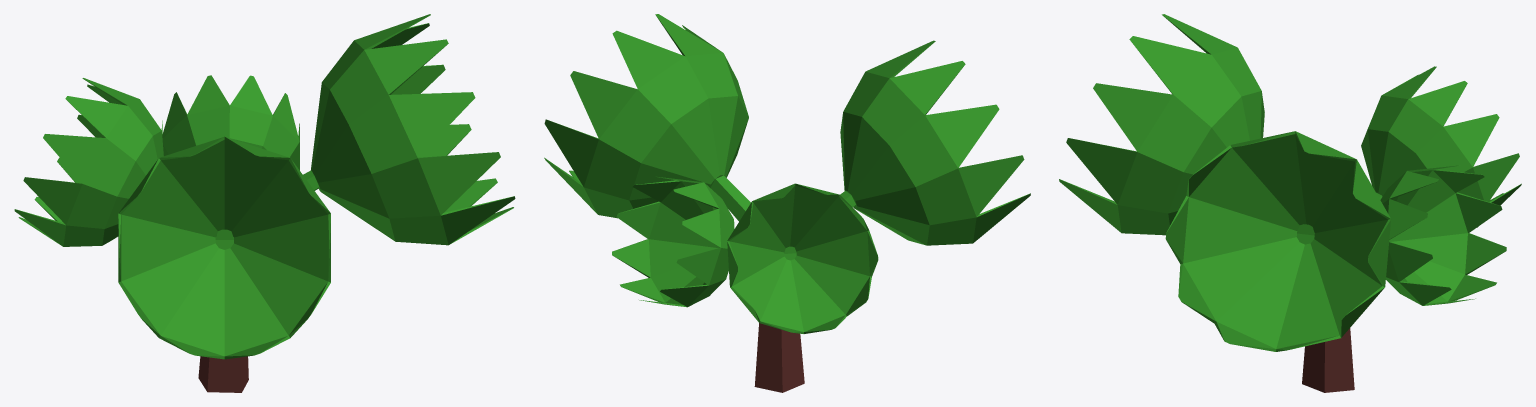
File: Plant_01.fbx
The picture shows the model from 3 angles, left to right: view 1: azimuth 30°, elevation 25°; view 2: azimuth 150°, elevation 25°; view 3: azimuth 270°, elevation 25°; orthographic projection. The views are drawn at different scales.
Parts seen in each view (by area): view 1: Plant_01; view 2: Plant_01; view 3: Plant_01.
Part boxes in pixels (x1,y1,x2,y2): Plant_01: (14, 14, 515, 392); Plant_01: (544, 14, 1030, 392); Plant_01: (1059, 14, 1521, 392).
Size of the model in its own units: 830 by 596 by 772.
